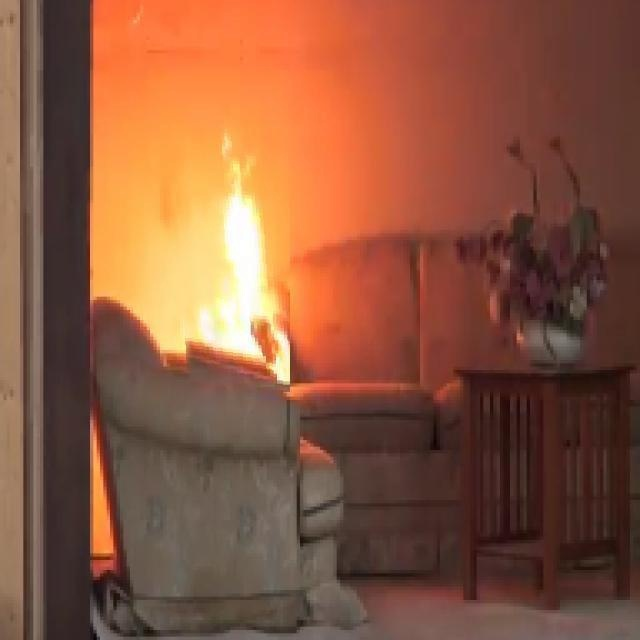fire: (172, 144, 287, 352)
